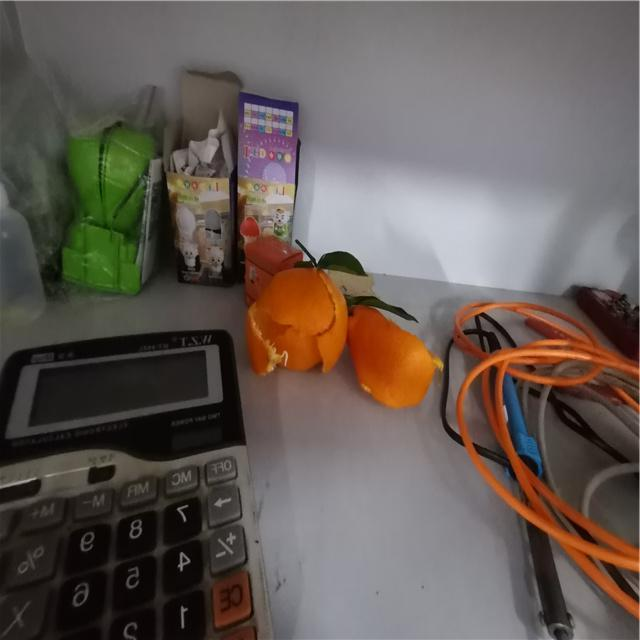orange peel: (245, 266, 353, 377), (346, 302, 442, 418)
